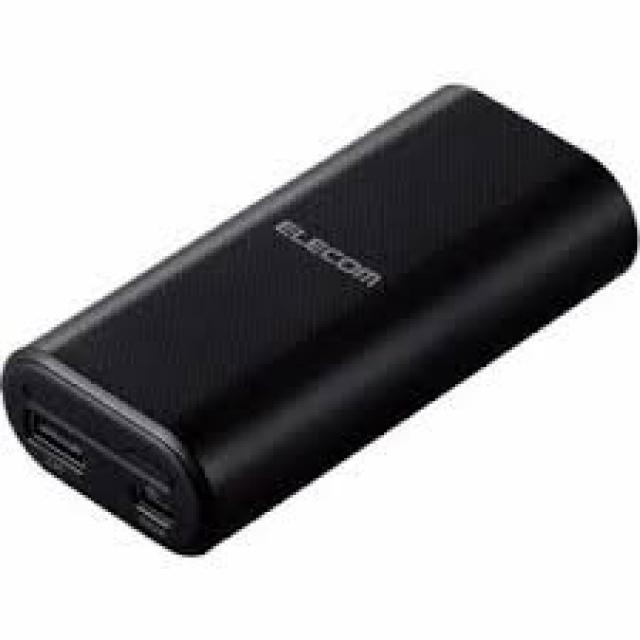non-organic waste: (8, 84, 640, 557)
